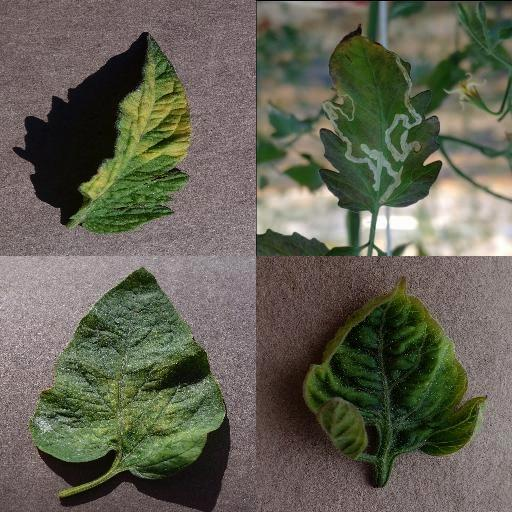Leaf Miner: (318, 21, 444, 214)
Leaf Mold: (76, 32, 192, 234)
Spider Mites: (30, 267, 226, 481)
Yellow Leaf Curl Virus: (300, 273, 488, 465)
